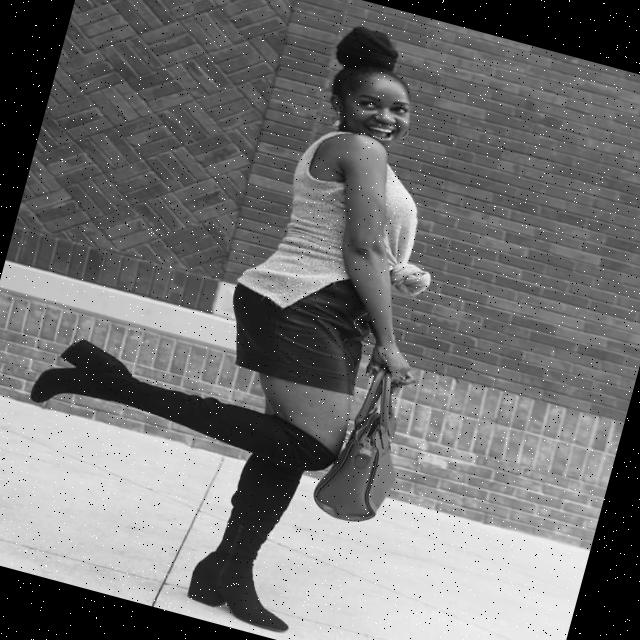Happiness: (326, 60, 425, 156)
